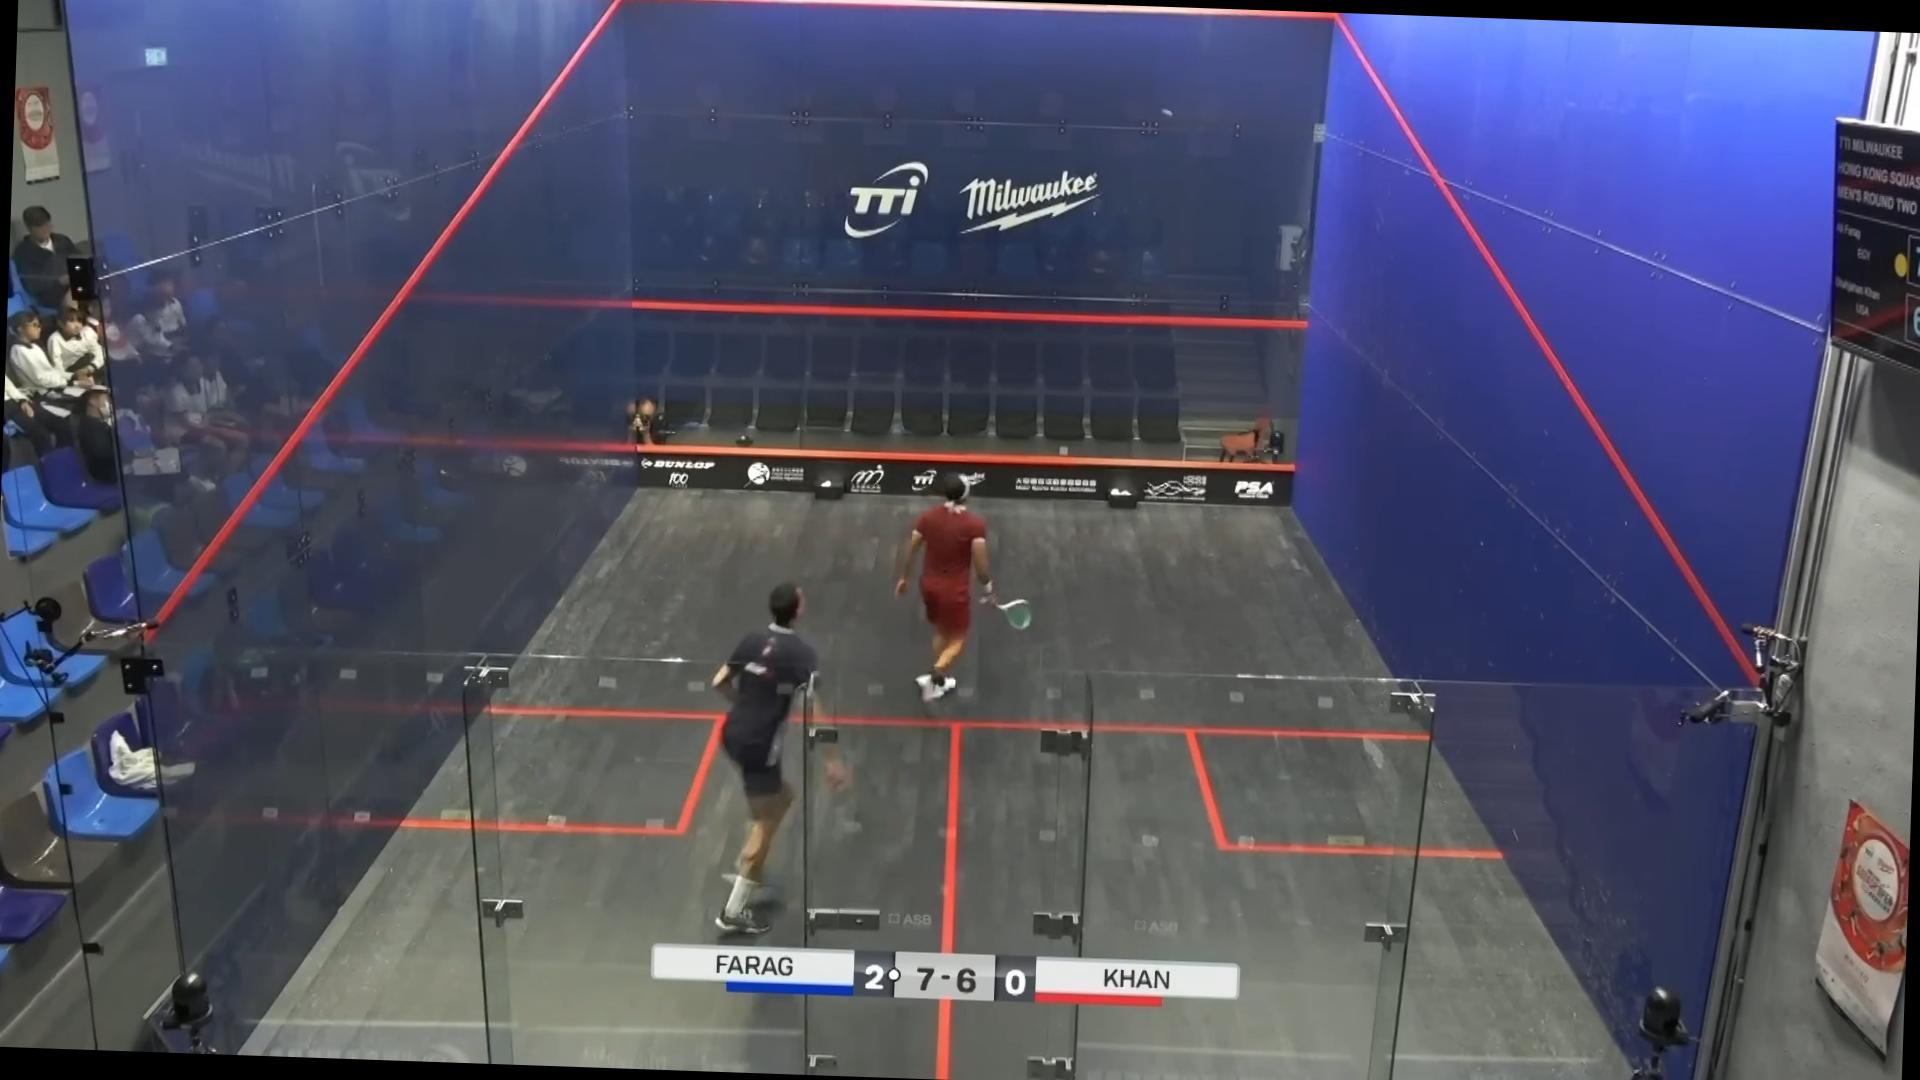Racket: (988, 589, 1034, 634)
